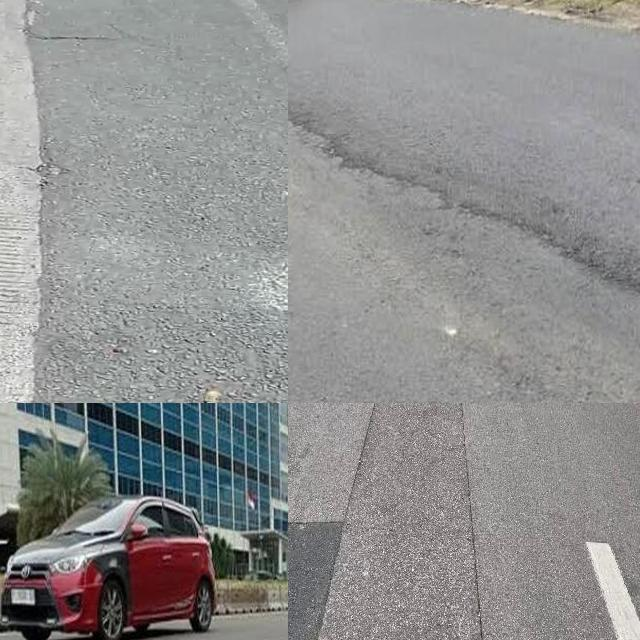Sambungan: (288, 106, 640, 403), (288, 403, 484, 640)
